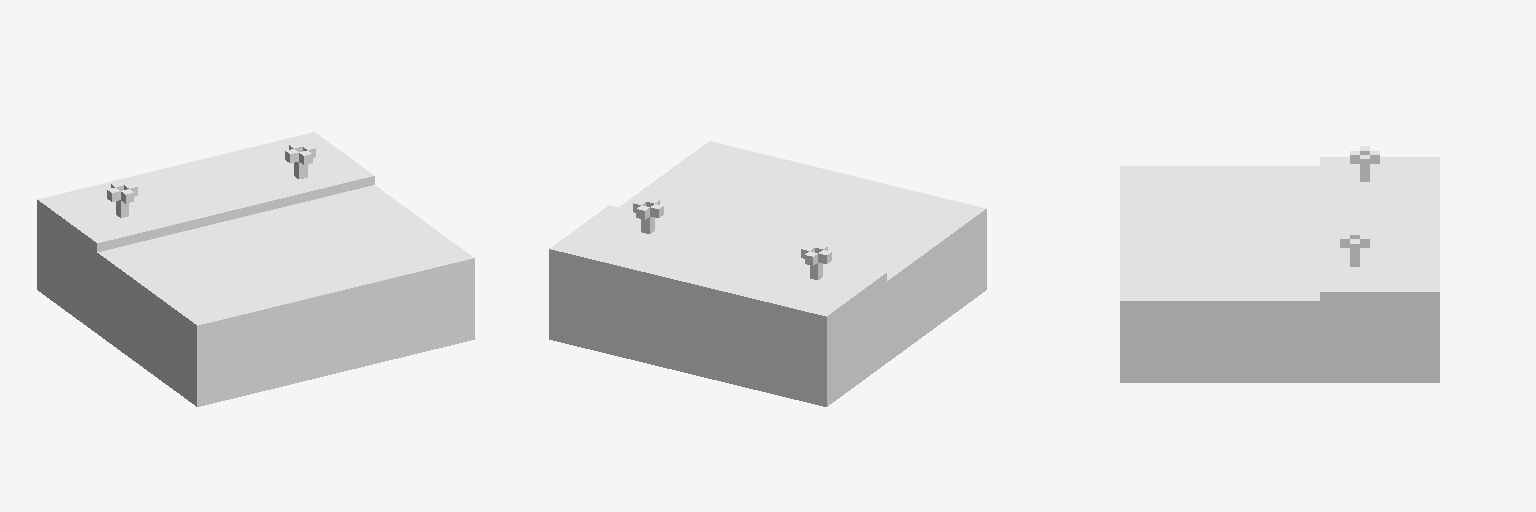
File: Overworld_Ocean_02.obj
The picture shows the model from 3 angles: view 1: azimuth 30°, elevation 25°; view 2: azimuth 150°, elevation 25°; view 3: azimuth 270°, elevation 25°; orthographic projection.
Parts seen in each view (by area): view 1: object 1; view 2: object 1; view 3: object 1.
Part boxes in pixels (x1,y1,x2,y2): object 1: (37,132,474,406); object 1: (549,141,986,406); object 1: (1120,146,1439,382).
Bounding box in the file's own units: 3.2 × 1.3 × 3.2.